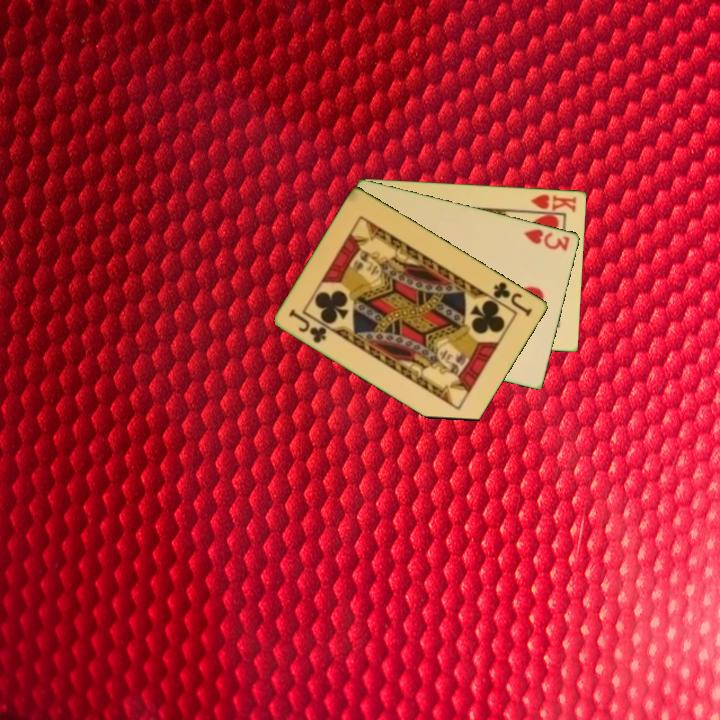3h: (520, 225, 573, 254)
Jc: (490, 278, 536, 319), (286, 306, 330, 346)
Kh: (523, 190, 579, 215)
